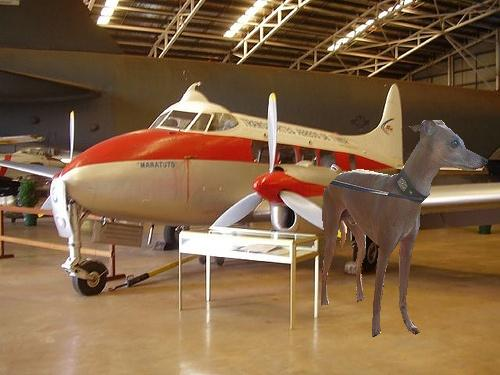tampered: (322, 121, 488, 337)
